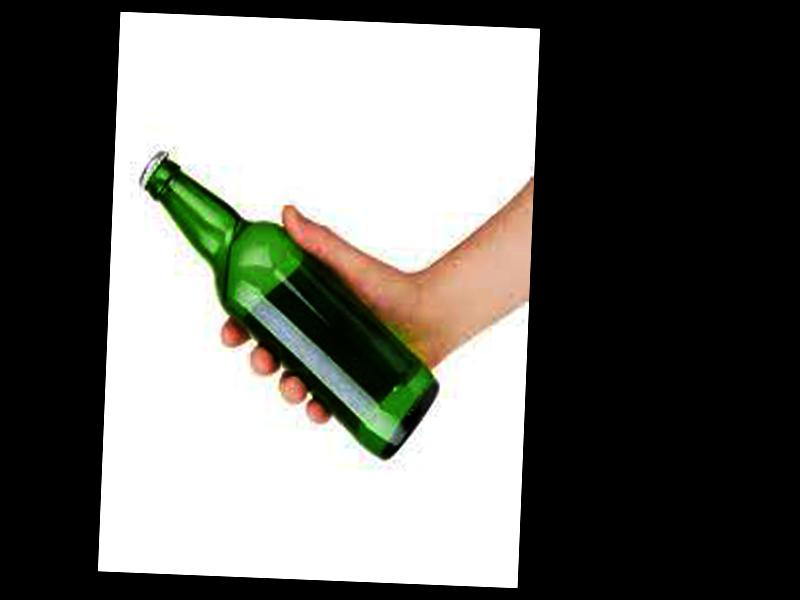Beer: (133, 150, 452, 458)
